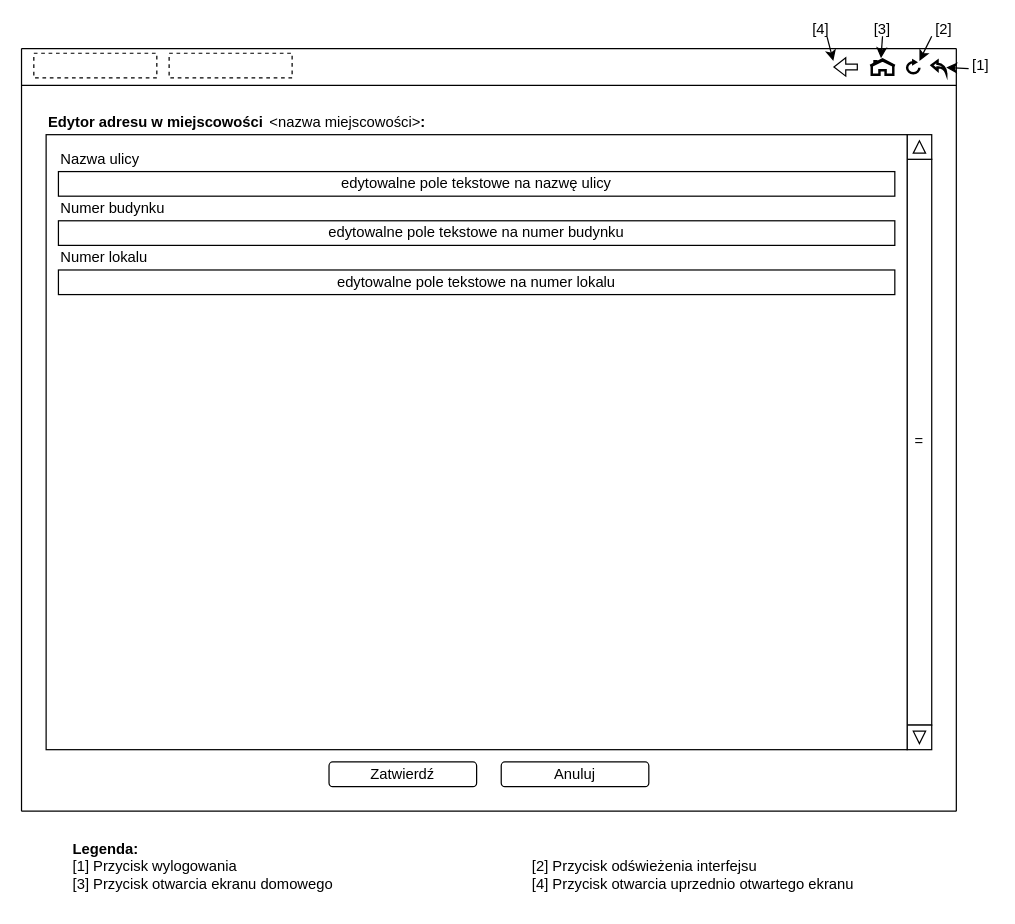
This 1015x924 diagram has some shape labels left out. Here are the shapes that lost their labels. From the top down, the box of each, then its label:
(33, 52, 157, 78): login
(168, 52, 292, 78): rola
